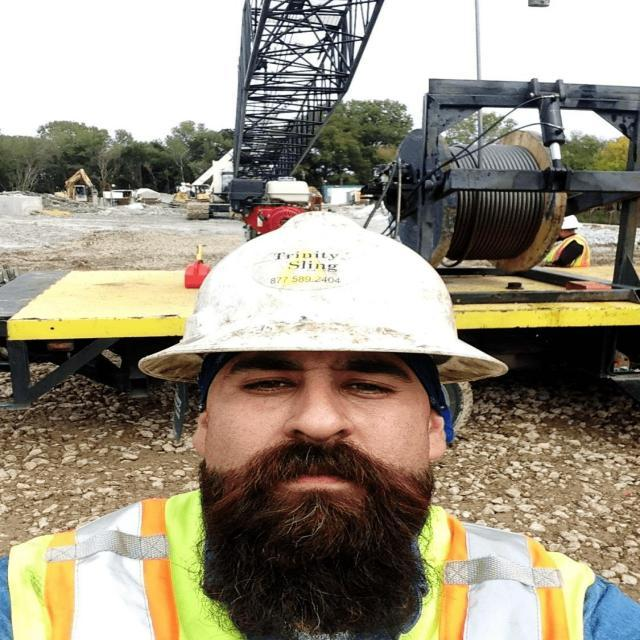hat: (139, 209, 511, 388)
